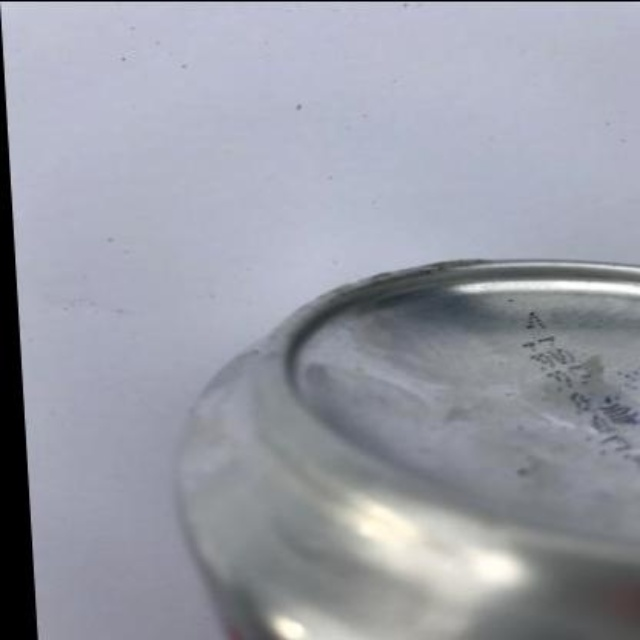trash: (178, 260, 638, 638)
